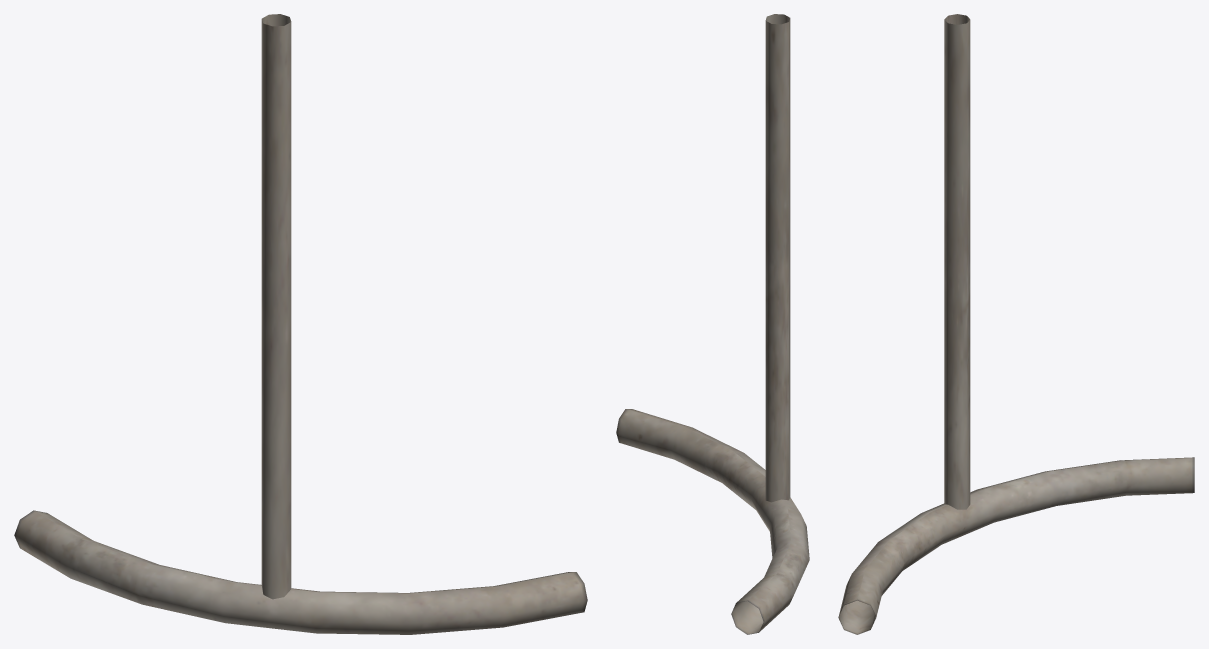
Rendered from curtain_railing_turn.dae.
3 views of the same model, side by side, from view 1: azimuth 30°, elevation 25°; view 2: azimuth 150°, elevation 25°; view 3: azimuth 270°, elevation 25° (orthographic). The views are drawn at different scales.
Visible parts, largest first — view 1: turn; view 2: turn; view 3: turn.
Part boxes in pixels (<box>): turn: <box>14,14,587,634</box>; turn: <box>616,14,809,634</box>; turn: <box>838,14,1194,634</box>.
Bounding box in the file's own units: 0.6602 × 1.05 × 0.6602.
